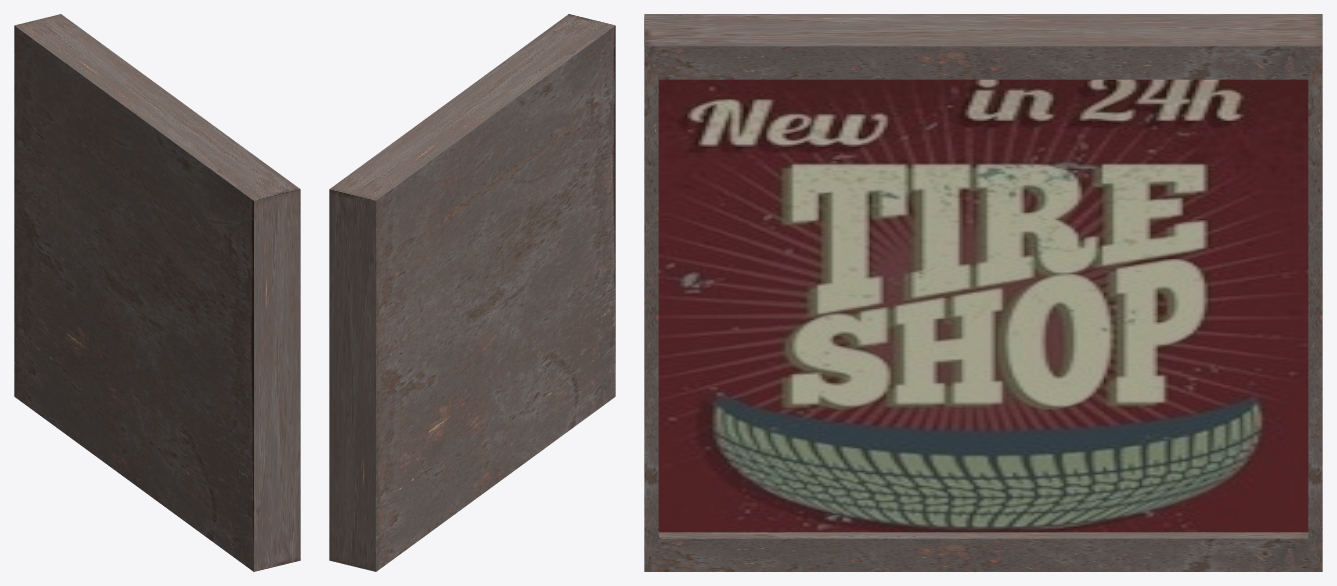
The model's file is tableau3.fbx.
The picture shows the model from 3 angles, left to right: view 1: azimuth 30°, elevation 25°; view 2: azimuth 150°, elevation 25°; view 3: azimuth 270°, elevation 25°; orthographic projection. The views are drawn at different scales.
Parts seen in each view (by area): view 1: tableau3; view 2: tableau3; view 3: tableau3.
Part boxes in pixels (x1,y1,x2,y2): tableau3: [14, 14, 300, 571]; tableau3: [329, 14, 615, 571]; tableau3: [644, 14, 1322, 571].
Bounding box in the file's own units: 14.84 × 112 × 131.
Materials: 2 (2 with a texture image).
